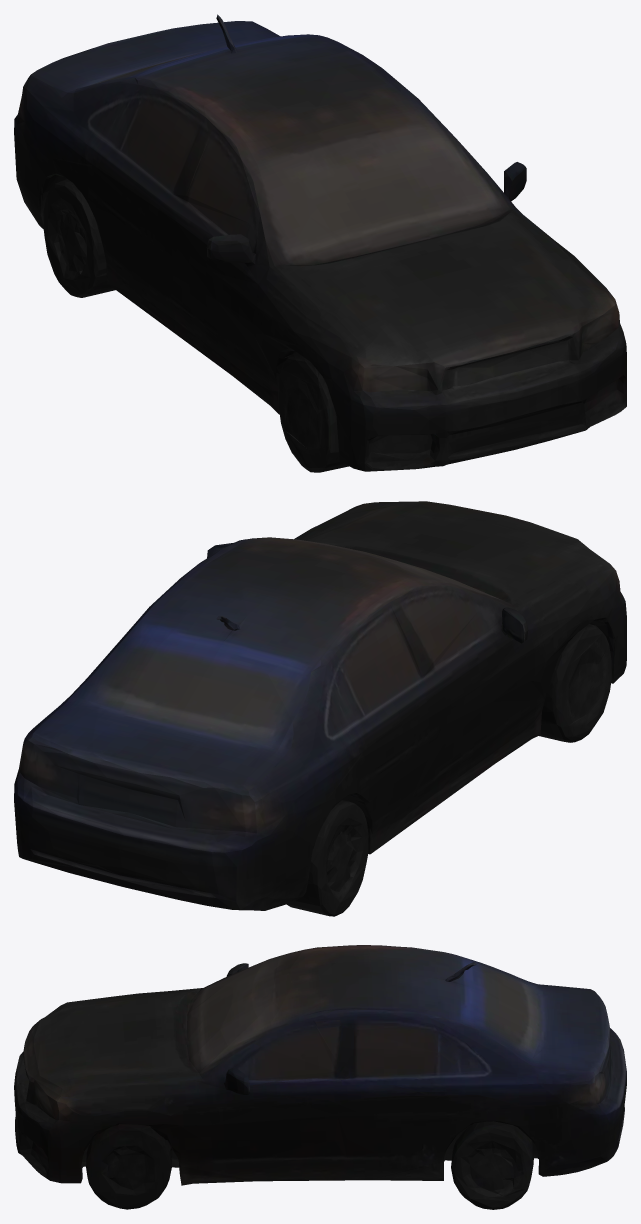
Rendered from car_sedan_black.glb.
3 renders of one model, top to bottom at view 1: azimuth 30°, elevation 25°; view 2: azimuth 150°, elevation 25°; view 3: azimuth 270°, elevation 25°, orthographic. The views are drawn at different scales.
Visible parts, largest first — view 1: geometry_0; view 2: geometry_0; view 3: geometry_0.
Boxes of the visible parts, x1,y1,x2,y2 form: geometry_0: (14, 14, 626, 472); geometry_0: (14, 501, 626, 916); geometry_0: (14, 945, 626, 1209).
Size of the model in its own units: 0.4594 by 0.3533 by 0.998.
Materials: 1 (1 with a texture image).
